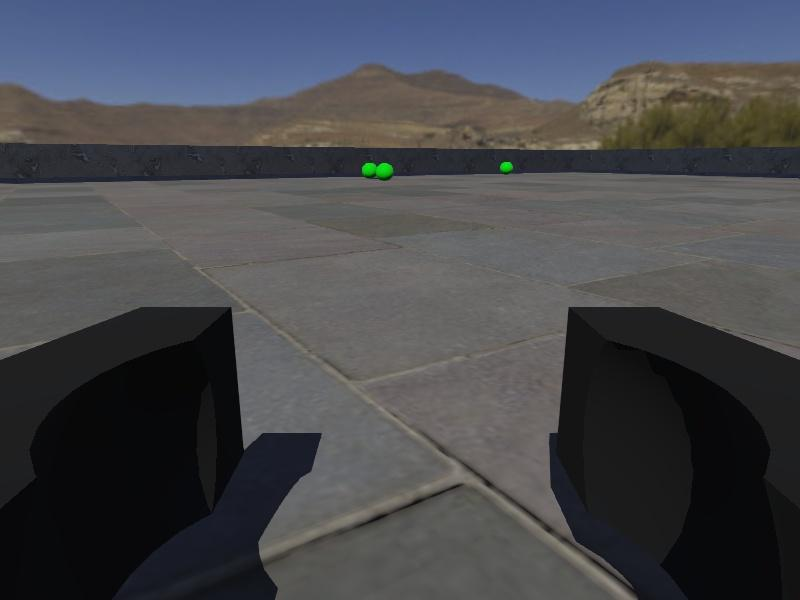green ball: (375, 161, 394, 182), (499, 160, 513, 174)
